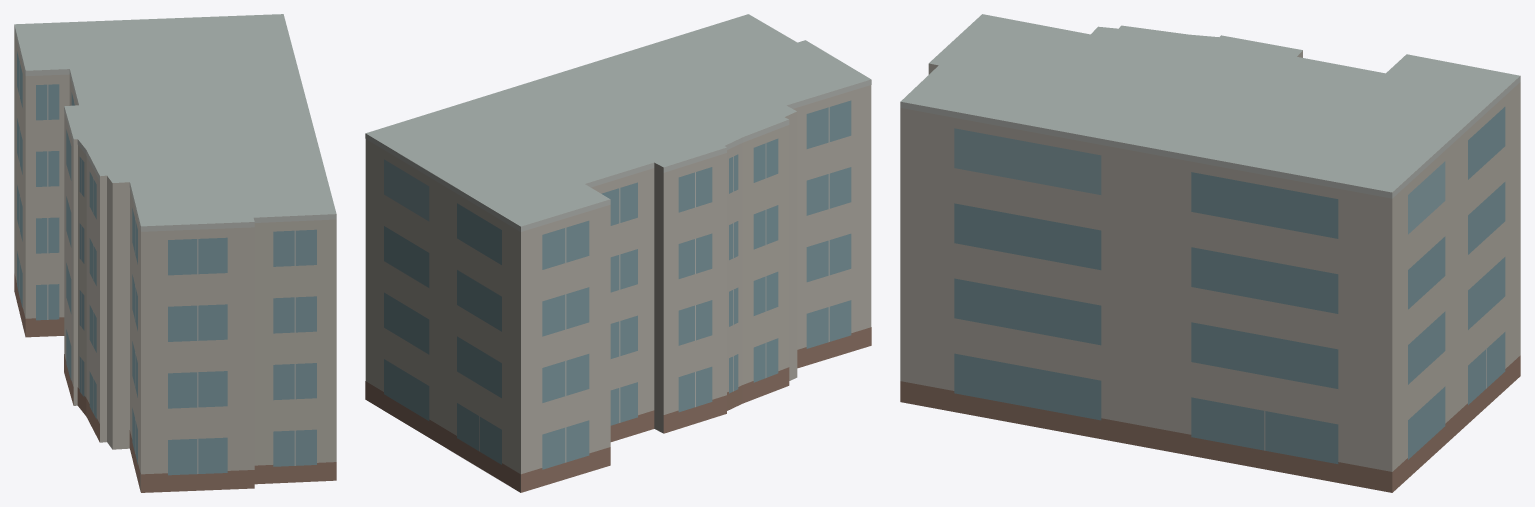
The model's file is survey-upis-32840114.glb.
3 renders of one model, left to right at view 1: azimuth 30°, elevation 25°; view 2: azimuth 150°, elevation 25°; view 3: azimuth 270°, elevation 25°, orthographic. The views are drawn at different scales.
Parts seen in each view (by area): view 1: survey-upis-32840114.tmp; view 2: survey-upis-32840114.tmp; view 3: survey-upis-32840114.tmp.
Boxes of the visible parts, left/top/right/bottom form: survey-upis-32840114.tmp: left=14, top=14, right=336, bottom=492; survey-upis-32840114.tmp: left=365, top=14, right=871, bottom=492; survey-upis-32840114.tmp: left=900, top=14, right=1520, bottom=492.
Size of the model in its own units: 15.31 by 12 by 22.46.
